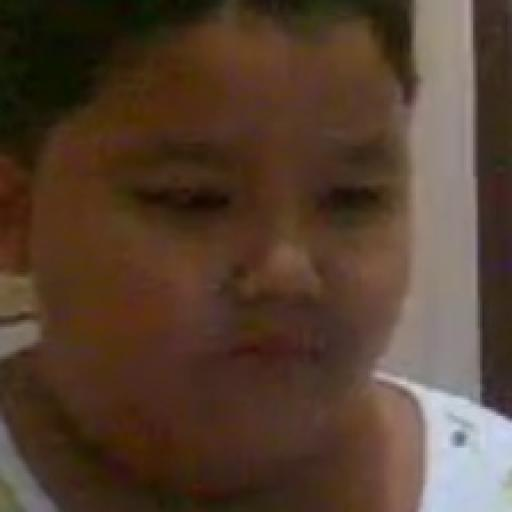Autism: (39, 36, 512, 512)
